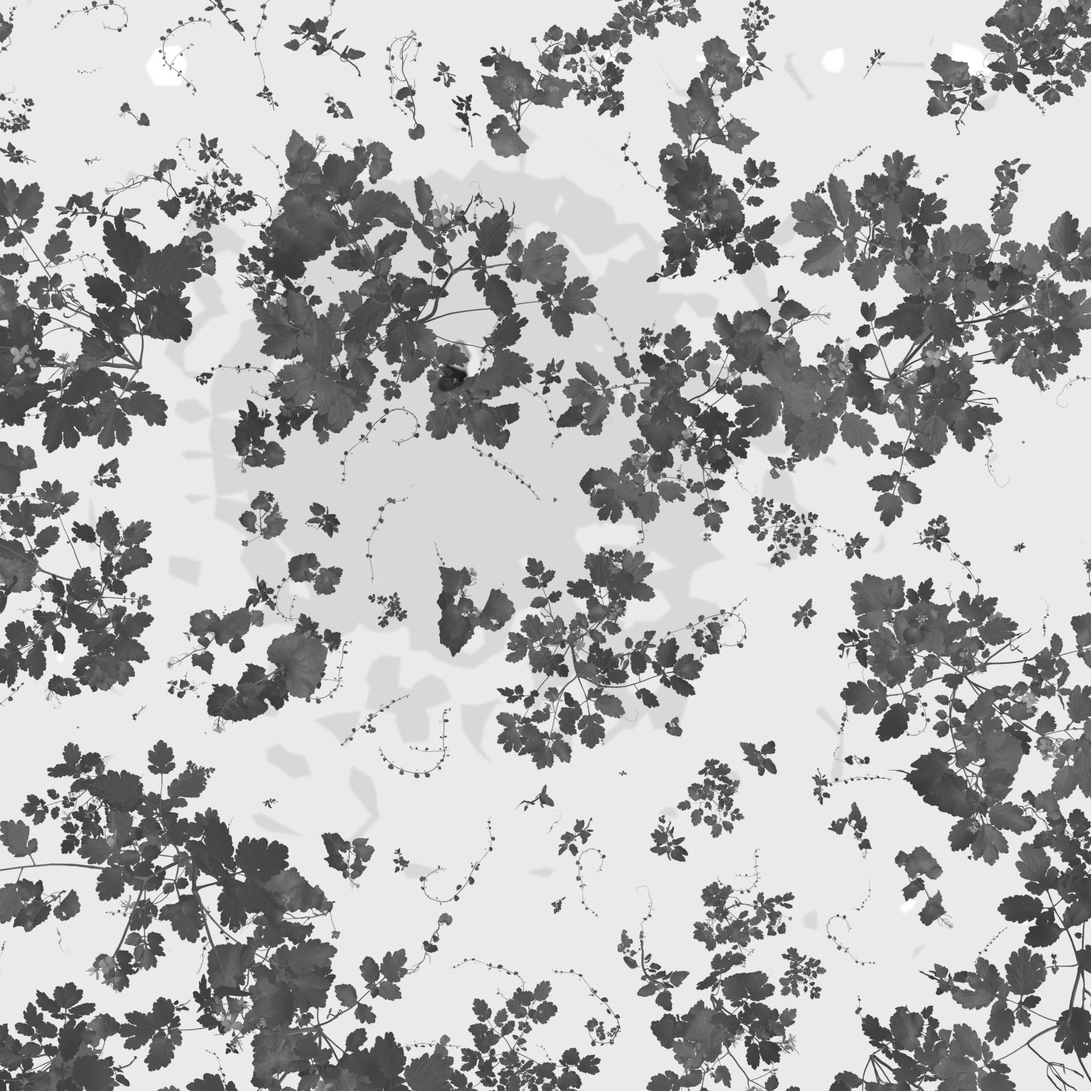landmine: (433, 339, 471, 391)
